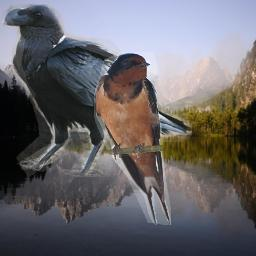Crow: (0, 4, 192, 177)
Swallow: (94, 52, 171, 225)
